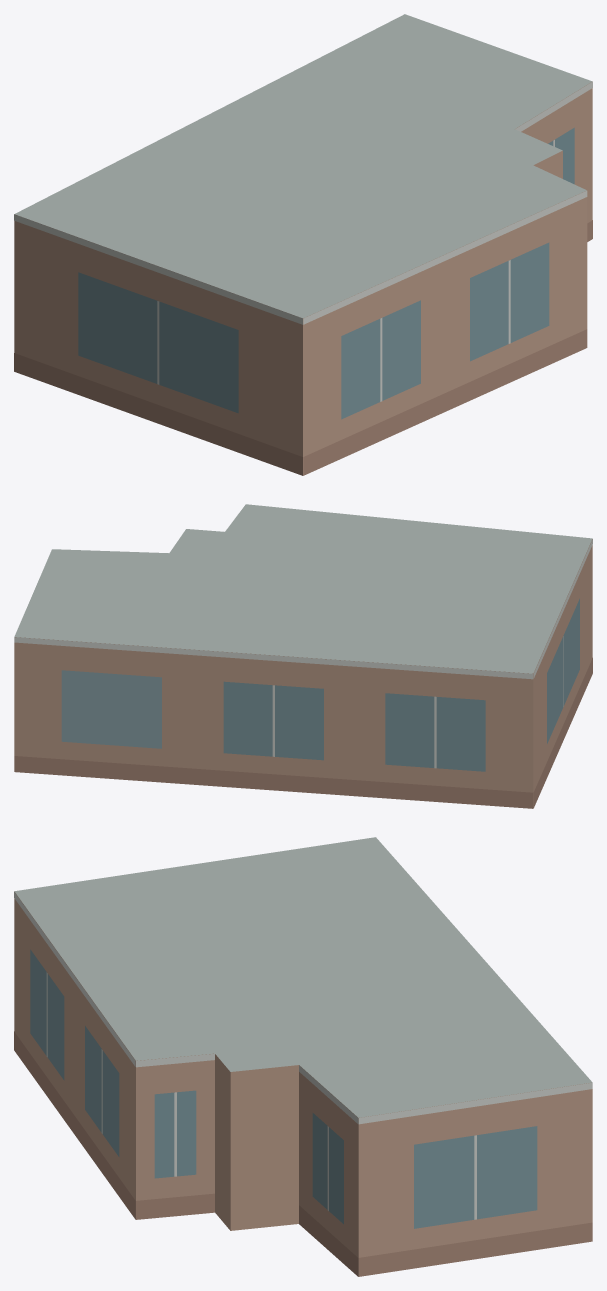
Rendered from survey-upis-32613910.glb.
The picture shows the model from 3 angles, top to bottom: view 1: azimuth 30°, elevation 25°; view 2: azimuth 150°, elevation 25°; view 3: azimuth 270°, elevation 25°; orthographic projection. The views are drawn at different scales.
Visible parts, largest first — view 1: survey-upis-32613910.tmp; view 2: survey-upis-32613910.tmp; view 3: survey-upis-32613910.tmp.
Part boxes in pixels (left/top/right/bottom): survey-upis-32613910.tmp: left=14, top=14, right=592, bottom=475; survey-upis-32613910.tmp: left=14, top=504, right=592, bottom=808; survey-upis-32613910.tmp: left=14, top=837, right=592, bottom=1276.
Size of the model in its own units: 11.57 by 3.05 by 10.07.
